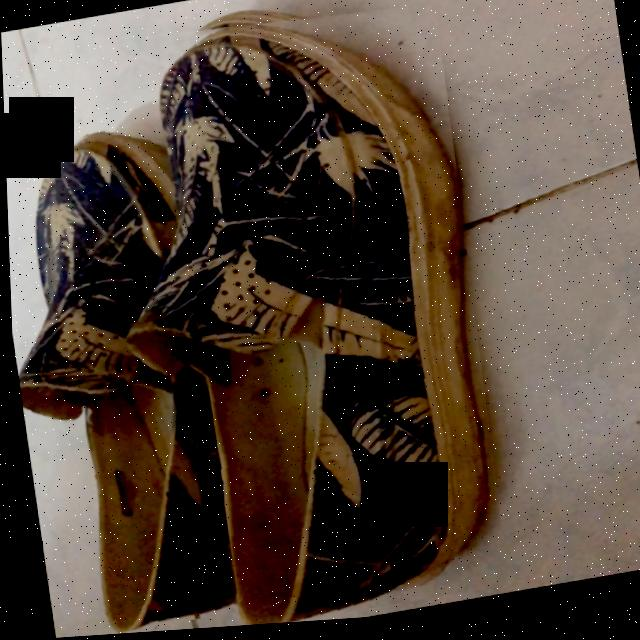shoe: (45, 26, 483, 628), (15, 133, 229, 633)
